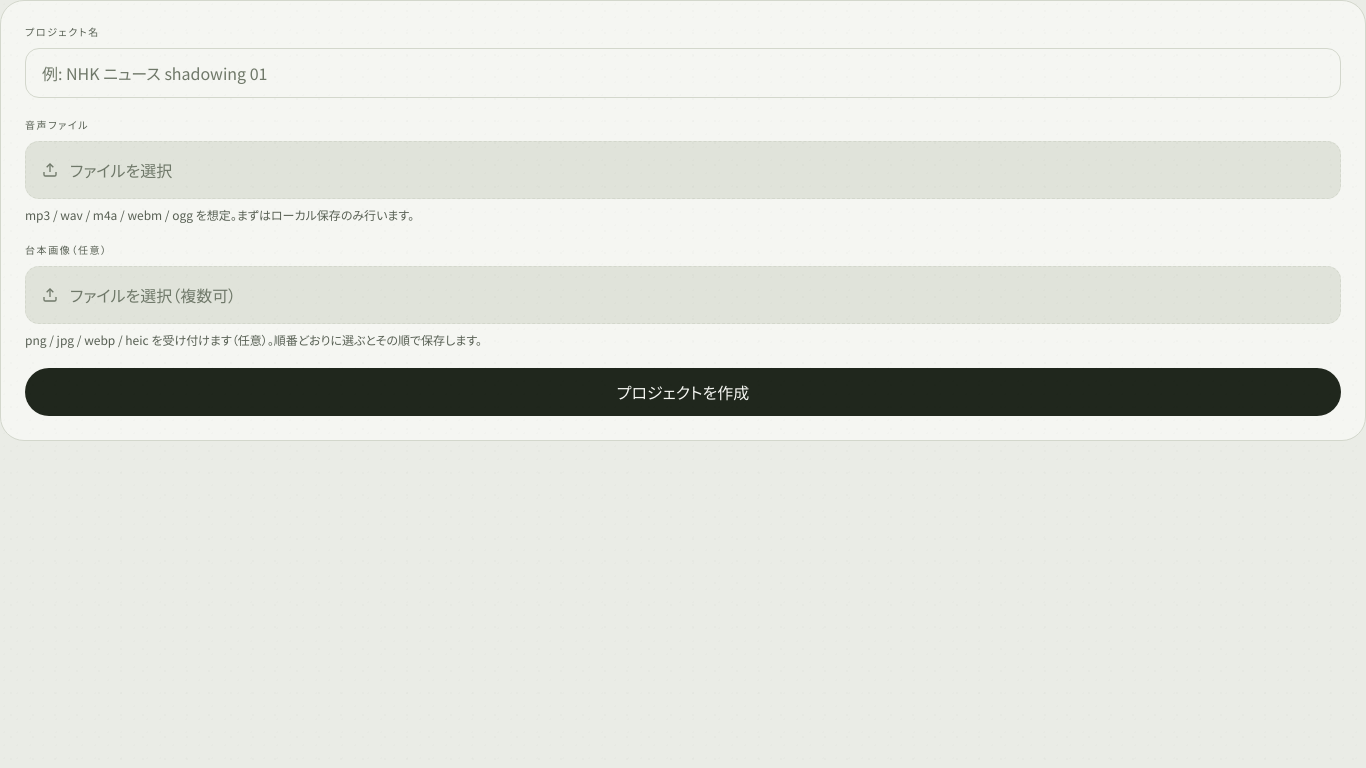
Scenario: ProjectCreateForm › shows a validation message for missing audio while title and images are optional
The image size is (1366, 768).
Click the button "プロジェクトを作成": (683, 392) [25,368,1341,416]
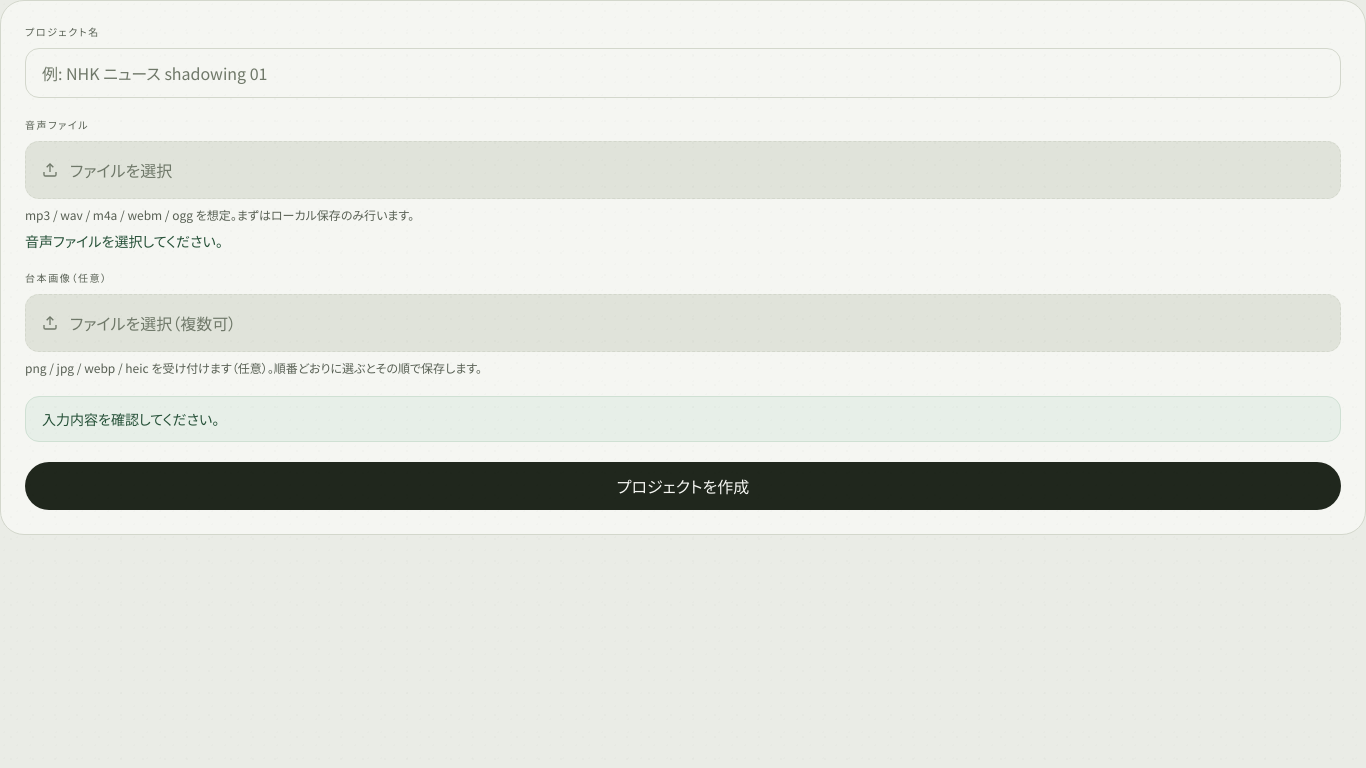
Now the text "音声ファイルを選択してください。" is shown, box [25,231,223,251]
Now the text "入力内容を確認してください。" is shown, box [25,396,1341,442]
